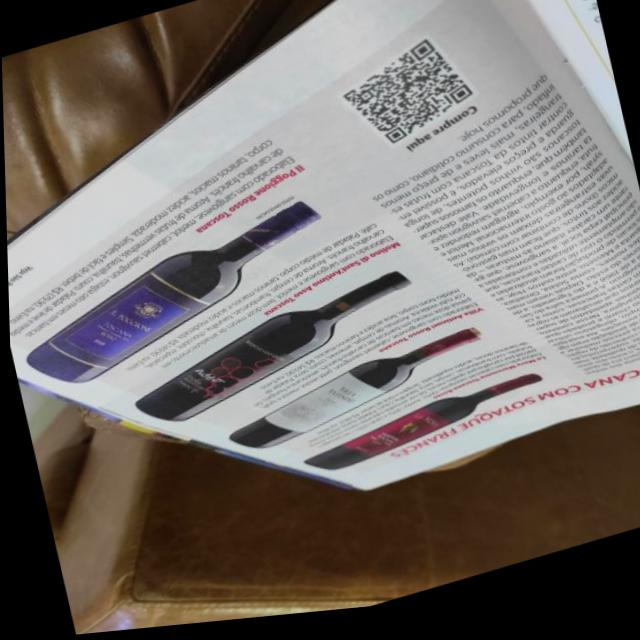qrcode: (335, 38, 478, 164)
